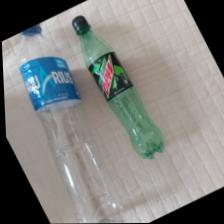plastic: (0, 25, 115, 223), (70, 16, 163, 158)
